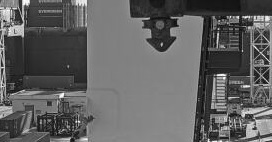Copy of twist_lock_2: (137, 10, 183, 54)
